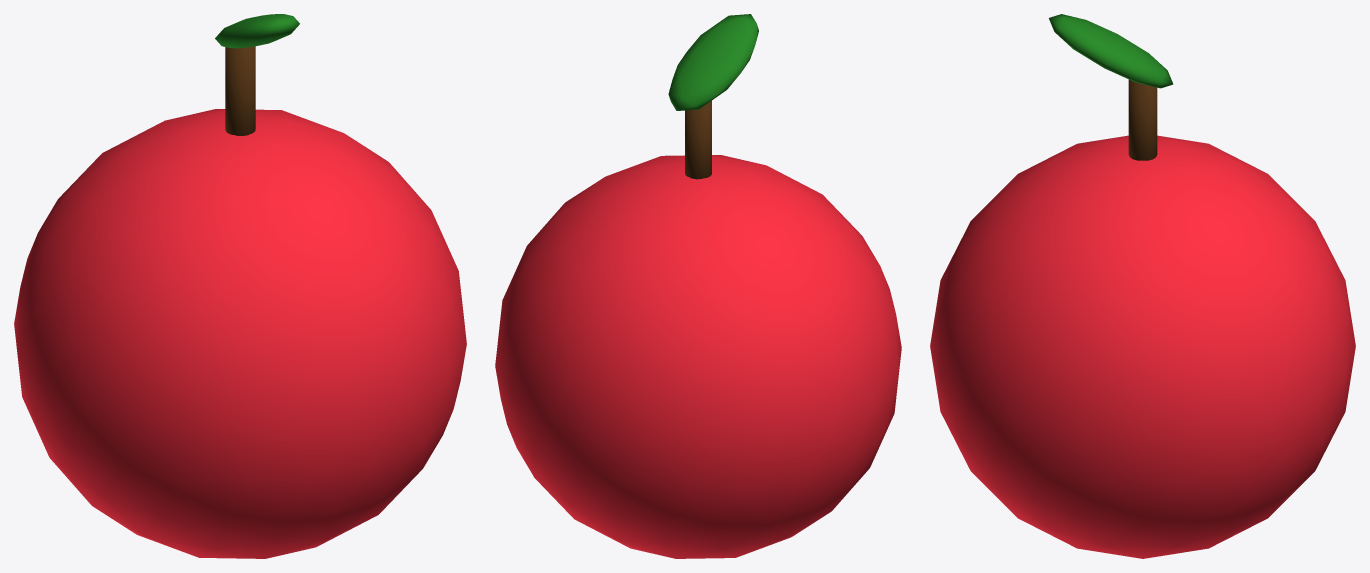
Rendered from berry.glb.
3 renders of one model, left to right at view 1: azimuth 30°, elevation 25°; view 2: azimuth 150°, elevation 25°; view 3: azimuth 270°, elevation 25°, orthographic. The views are drawn at different scales.
Parts seen in each view (by area): view 1: Berry; view 2: Berry; view 3: Berry.
Boxes of the visible parts, bbox=[...] form: Berry: bbox=[14, 14, 466, 558]; Berry: bbox=[495, 14, 901, 558]; Berry: bbox=[930, 14, 1355, 558].
Size of the model in its own units: 0.6 by 0.806 by 0.6.
Materials: 1 (1 with a texture image).
